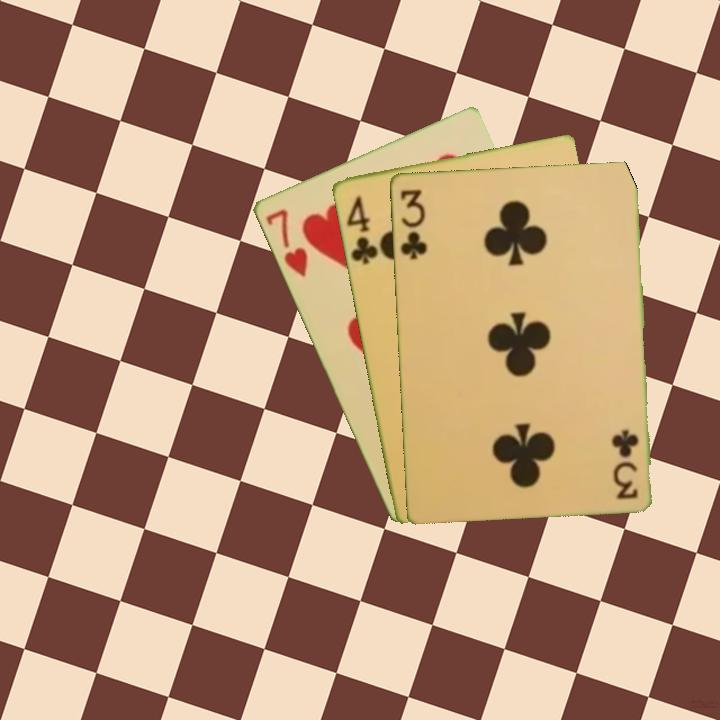3c: (396, 185, 430, 262), (611, 425, 641, 502)
4c: (342, 192, 381, 267)
7h: (261, 205, 311, 280)
